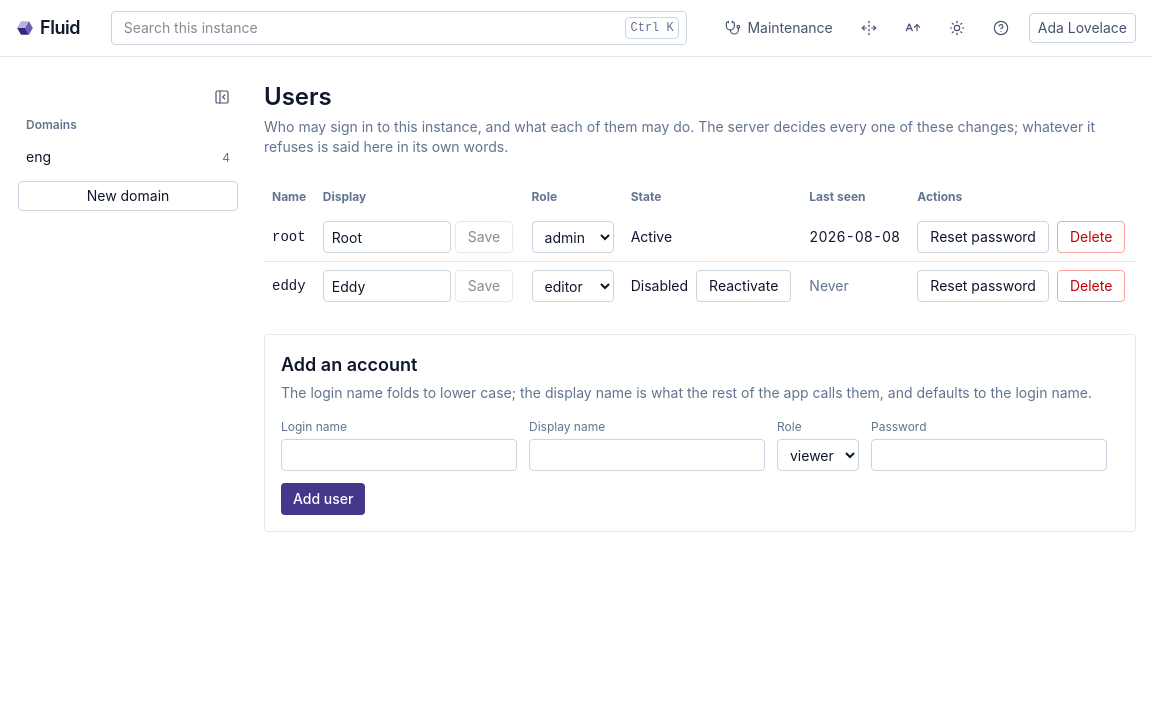
Scenario: the user admin screen › surfaces a NOT_LAST_ADMIN refusal in the server's words
The image size is (1152, 720).
Select "viewer" in the dropdown named "role" in the row of "root". click: (572, 237)
box: [532,221,614,253]
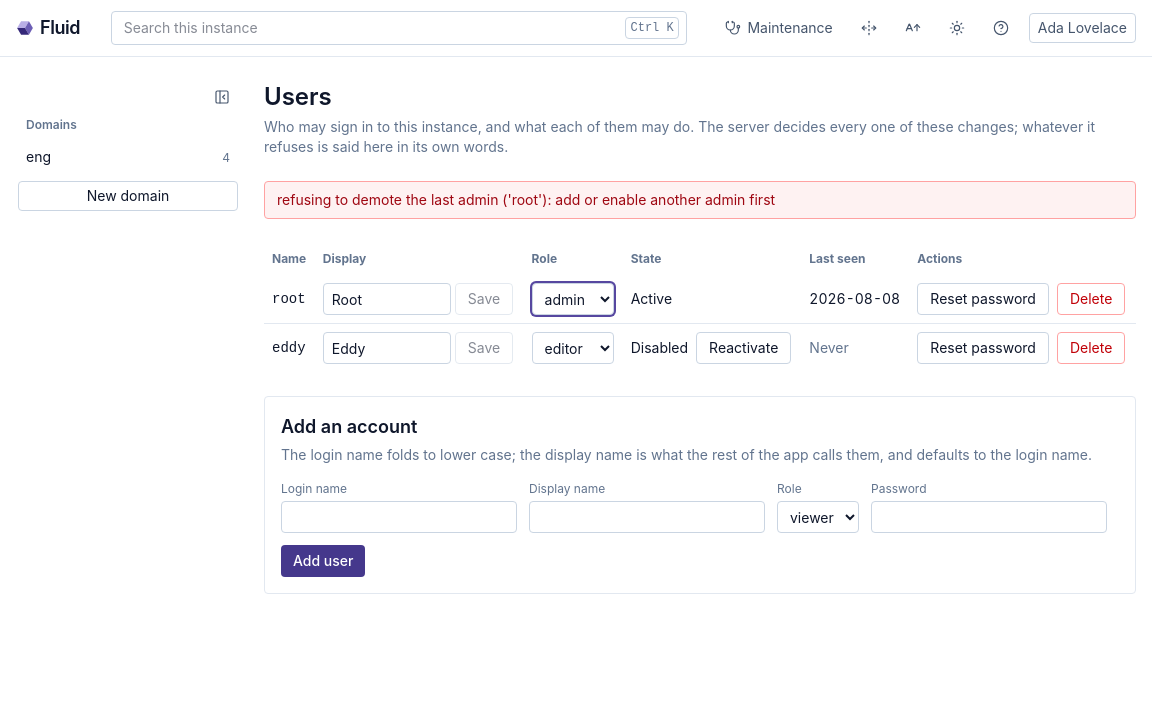
Expected: the text "refusing to demote the last admin ('root'): add or enable another admin first" is shown, [264,181,1136,219]
